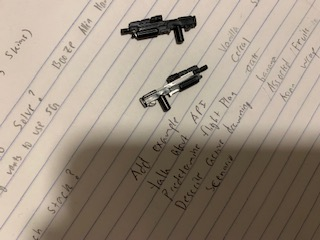rifle: (139, 65, 210, 114), (115, 13, 202, 45)
